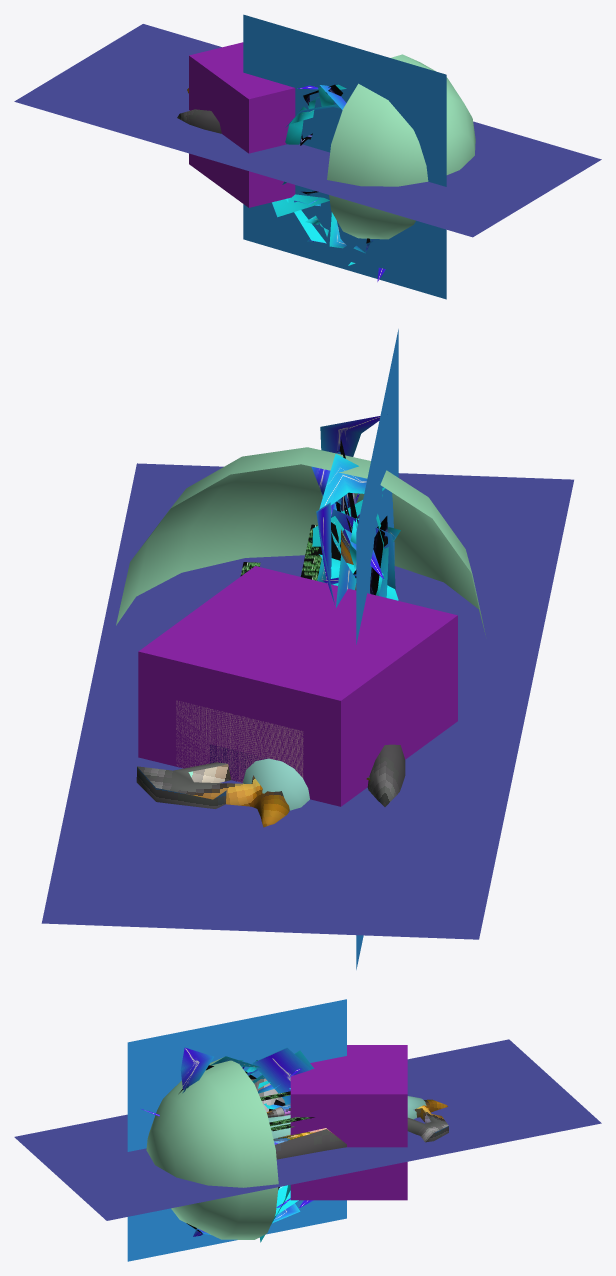
3 renders of one model, top to bottom at view 1: azimuth 30°, elevation 25°; view 2: azimuth 150°, elevation 25°; view 3: azimuth 270°, elevation 25°, orthographic. The views are drawn at different scales.
Visible parts, largest first — view 1: object0107_Plane, object0074_Plane01, "object0289_Editable Poly", object0369_Box, object0125_Plane31:0, object0005_W534, object0084_Plane02X:0; view 2: object0107_Plane, object0369_Box, "object0289_Editable Poly", object0005_W534, object0372_Box, object0074_Plane01, object0188_Plane254, object0312_Sphere, object0051_Object05, object0125_Plane31:0; view 3: object0107_Plane, object0074_Plane01, "object0289_Editable Poly", object0369_Box, object0005_W534, object0125_Plane31:0, object0188_Plane254, object0312_Sphere, object0051_Object05.
Part boxes in pixels (<box>): object0107_Plane: <box>14,24,601,237</box>; object0074_Plane01: <box>243,14,446,299</box>; "object0289_Editable Poly": <box>327,54,475,239</box>; object0369_Box: <box>189,42,295,207</box>; object0125_Plane31:0: <box>272,194,329,243</box>; object0005_W534: <box>177,88,221,133</box>; object0084_Plane02X:0: <box>285,97,319,144</box>; object0107_Plane: <box>41,463,573,939</box>; object0369_Box: <box>138,566,457,806</box>; "object0289_Editable Poly": <box>116,447,485,634</box>; object0005_W534: <box>136,529,405,827</box>; object0372_Box: <box>176,700,303,782</box>; object0074_Plane01: <box>356,329,398,969</box>; object0188_Plane254: <box>312,416,398,600</box>; object0312_Sphere: <box>243,758,309,810</box>; object0051_Object05: <box>319,454,382,589</box>; object0125_Plane31:0: <box>316,494,348,604</box>; object0107_Plane: <box>14,1039,601,1220</box>; object0074_Plane01: <box>127,999,346,1261</box>; "object0289_Editable Poly": <box>146,1057,278,1239</box>; object0369_Box: <box>290,1045,407,1200</box>; object0005_W534: <box>251,1078,448,1159</box>; object0125_Plane31:0: <box>252,1047,311,1242</box>; object0188_Plane254: <box>180,1047,301,1234</box>; object0312_Sphere: <box>268,1096,426,1138</box>; object0051_Object05: <box>193,1056,300,1236</box>.
Size of the model in its own units: 2.17 by 1.22 by 2.97.
